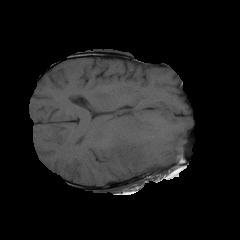glioma: (109, 104, 172, 172)
